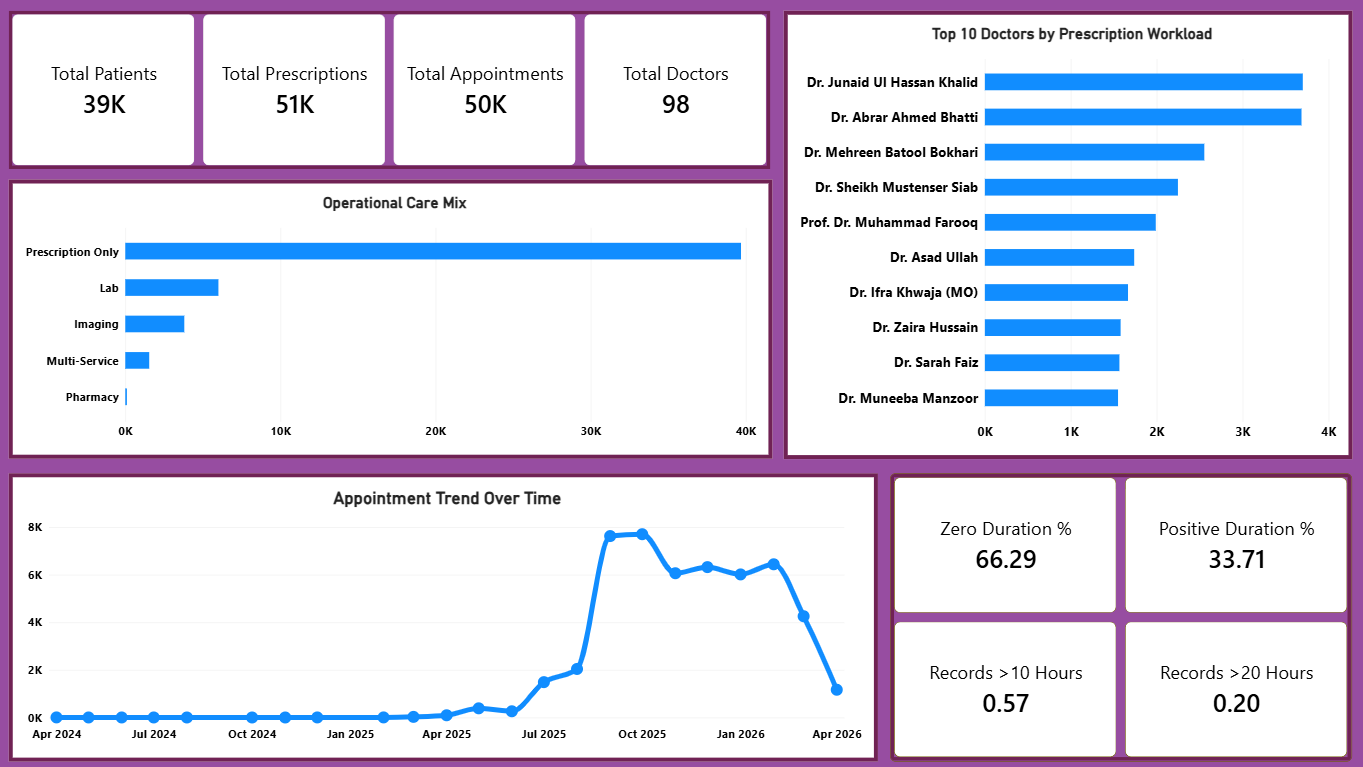

Layout of this report page (visuals, bound fields, positions):
{"tool":"powerbi","page":{"name":"Page 1","canvas":[1920,1080],"ordinal":0},"visuals":[{"type":"cardVisual","fields":{"Data":["cleaned_HospitalOPD-noname.Total Patients","cleaned_HospitalOPD-noname.Total Prescriptions","cleaned_HospitalOPD-noname.Total Appointments","cleaned_HospitalOPD-noname.Total Doctors"]},"box":[19.1,19.1,1066,221.3],"z":0},{"type":"clusteredBarChart","title":"Operational Care Mix","fields":{"Category":["cleaned_HospitalOPD-noname.Care_Mix"],"Y":["cleaned_HospitalOPD-noname.Total Appointments"]},"box":[19.1,255.3,1066,389.4],"z":2000},{"type":"barChart","title":"Top 10 Doctors by Prescription Workload","fields":{"Category":["cleaned_HospitalOPD-noname.prescription_doctor_name"],"Y":["Count(cleaned_HospitalOPD-noname.prescription_order_id)"]},"box":[1100,19.1,793.6,625.5],"z":4000},{"type":"cardVisual","fields":{"Data":["cleaned_HospitalOPD-noname.Zero Duration %","cleaned_HospitalOPD-noname.Positive Duration %","cleaned_HospitalOPD-noname.Records >10 Hours","cleaned_HospitalOPD-noname.Records >20 Hours"]},"box":[1248.9,663.8,644.7,402.1],"z":5000},{"type":"lineChart","title":"Appointment Trend Over Time","fields":{"Y":["Count(cleaned_HospitalOPD-noname.appointment_id)"],"Category":["cleaned_HospitalOPD-noname.appointment_start_datetime.Variation.Date Hierarchy.Year","cleaned_HospitalOPD-noname.appointment_start_datetime.Variation.Date Hierarchy.Month"]},"box":[19.1,663.8,1212.8,402.1],"z":5001}]}

Visuals, with their boxes in screenshot pixels (x1, y1, x2, y2), scaled from the page's 1920x1080 canvas onto the 1363x767 screenshot:
cardVisual - cleaned_HospitalOPD-noname.Total Patients x cleaned_HospitalOPD-noname.Total Prescriptions: 14,14,770,171
"Operational Care Mix" clusteredBarChart: 14,181,770,458
"Top 10 Doctors by Prescription Workload" barChart: 781,14,1344,458
cardVisual - cleaned_HospitalOPD-noname.Zero Duration % x cleaned_HospitalOPD-noname.Positive Duration %: 887,471,1344,757
"Appointment Trend Over Time" lineChart: 14,471,875,757
